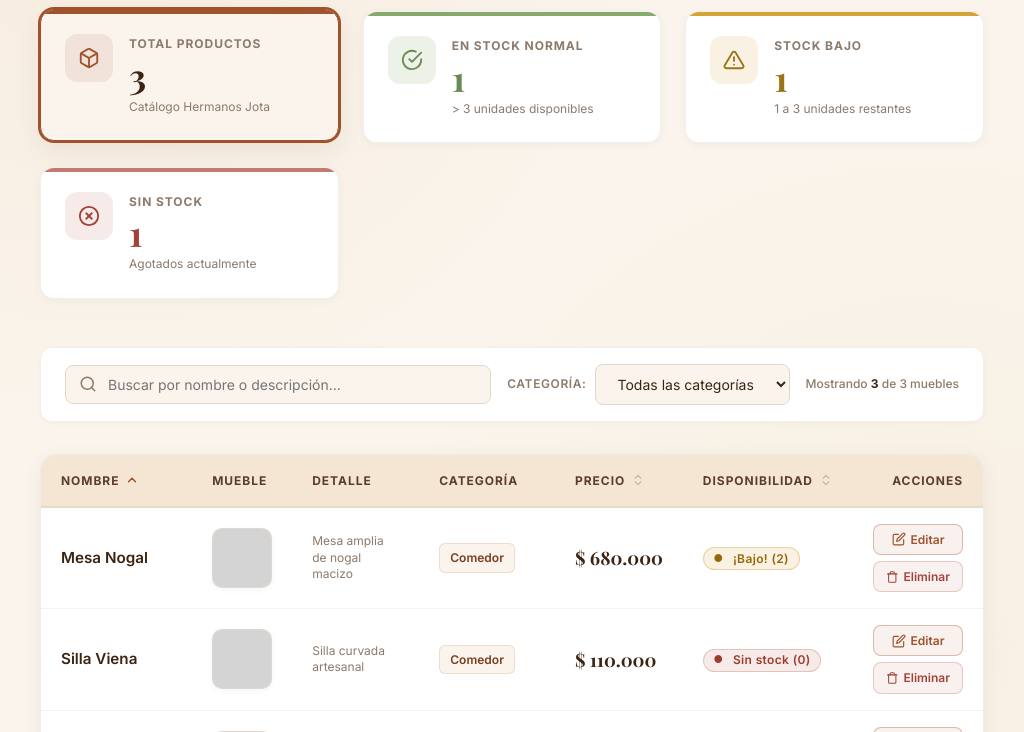
Scenario: AdminPanel Component › filtra productos por término de búsqueda en tiempo real
The image size is (1024, 732).
(page scrolled)
Step 1. Type "Bauhaus" into the field named "Buscar producto en admin" → (278, 384), box [65, 365, 491, 404]
(page scrolled)
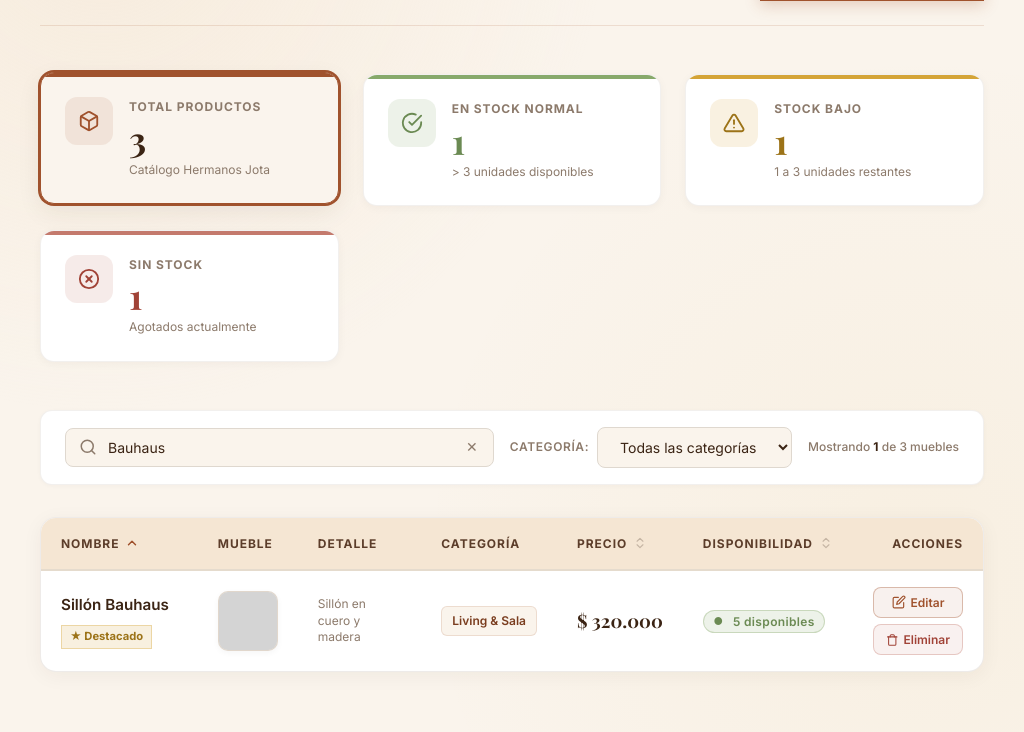
Expected: the text "Sillón Bauhaus" is shown, [61, 593, 169, 617]
Expected: the text "Mesa Nogal" is gone
Expected: the text "Silla Viena" is gone
